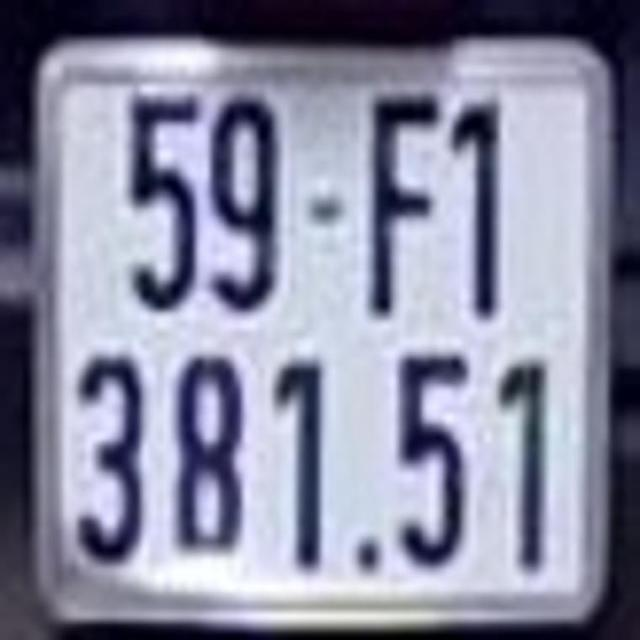1: (450, 91, 507, 319), (271, 356, 329, 570), (499, 358, 551, 574)
3: (73, 349, 145, 564)
5: (124, 91, 200, 311), (397, 350, 468, 567)
8: (174, 348, 246, 564)
9: (208, 90, 279, 314)
F: (369, 90, 442, 317)
